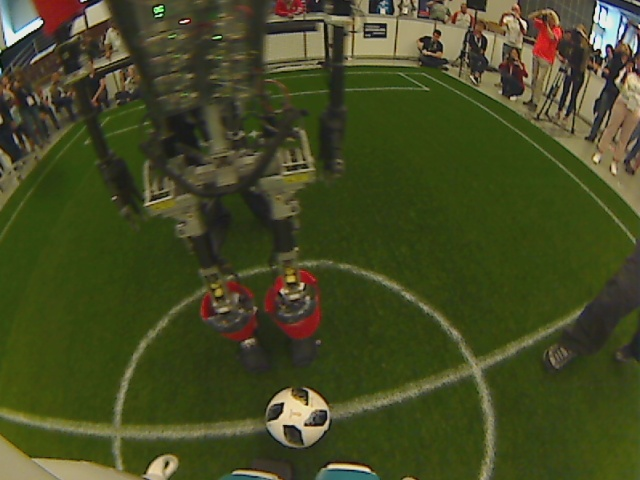ball: (261, 383, 334, 453)
